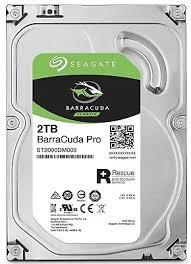internal HDD: (6, 4, 186, 263)
